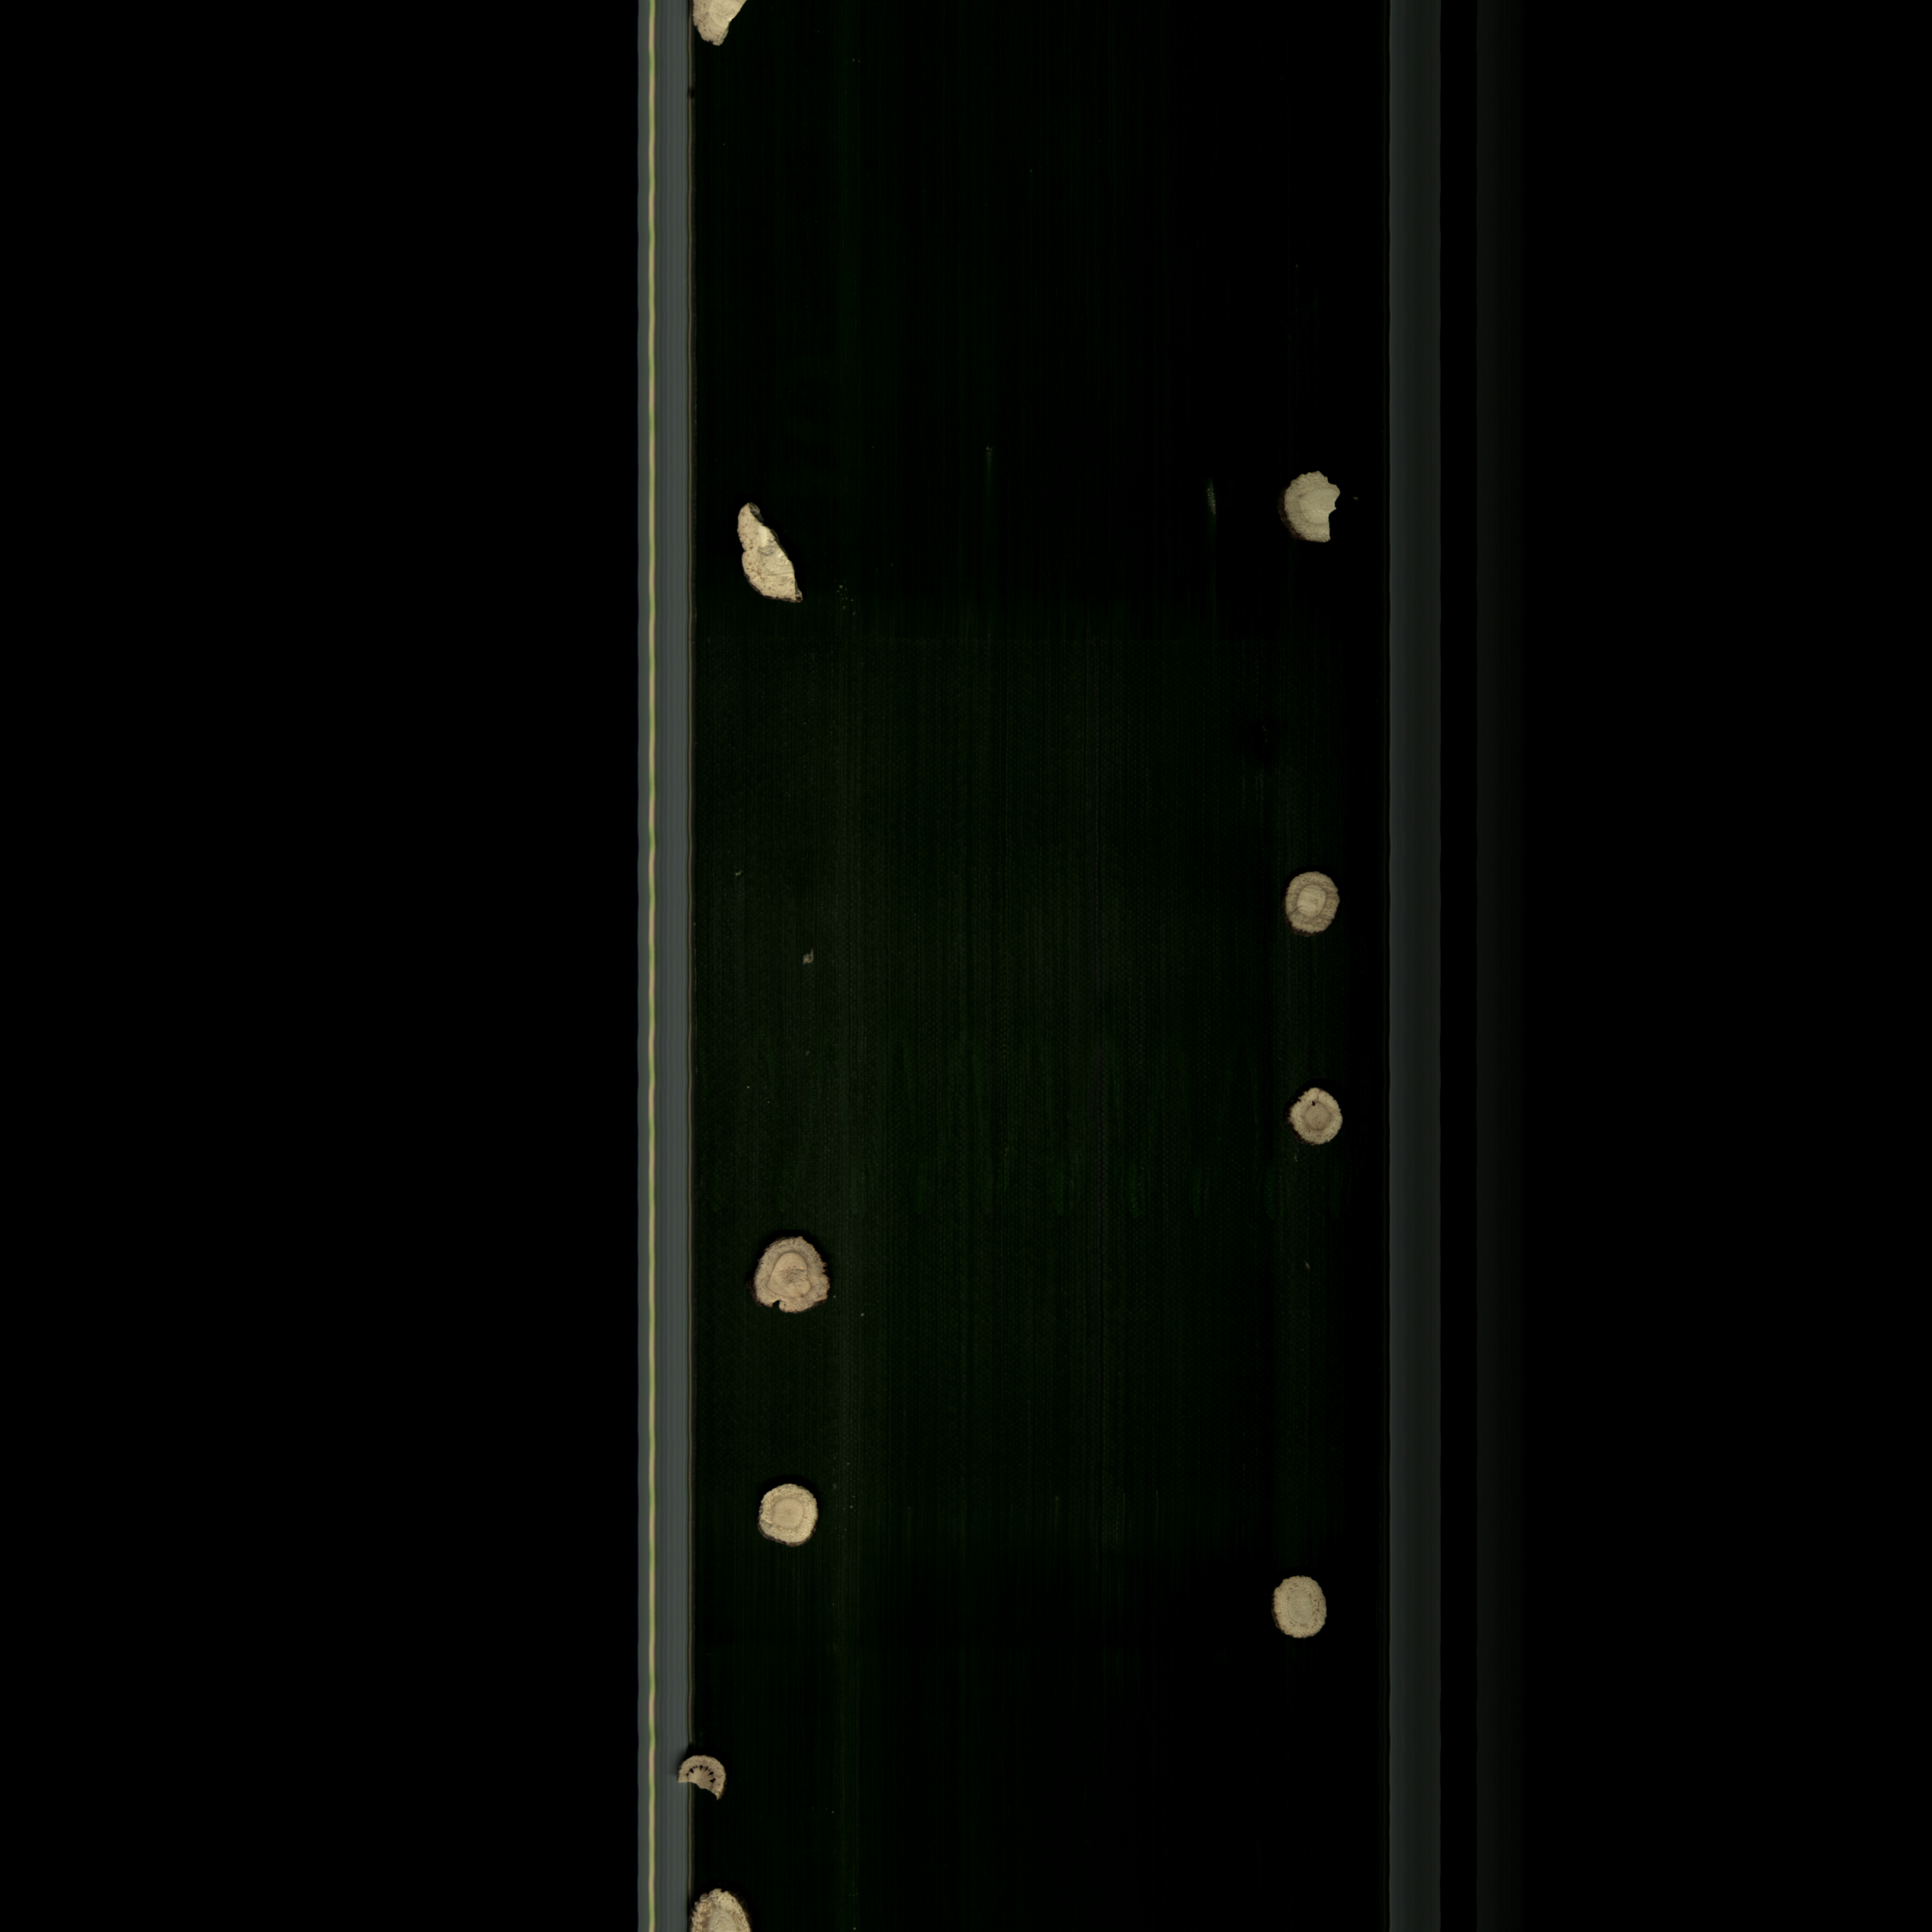debris: (729, 494, 814, 610), (1267, 460, 1348, 554)
distortion: (686, 1881, 761, 1932)
dreg: (794, 938, 844, 978)
moldy: (743, 1230, 847, 1325), (1277, 867, 1348, 945), (1281, 1079, 1352, 1154), (672, 1753, 736, 1808)
